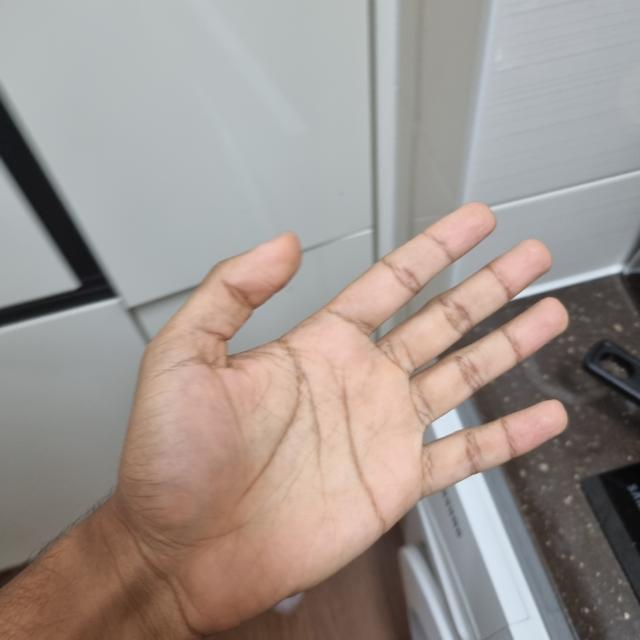Paper: (110, 203, 567, 630)
